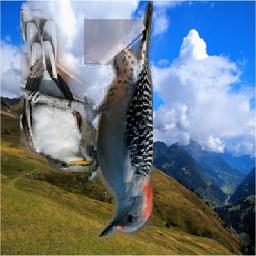Cuckoo: (20, 10, 96, 173)
Woodpecker: (85, 2, 154, 245)
